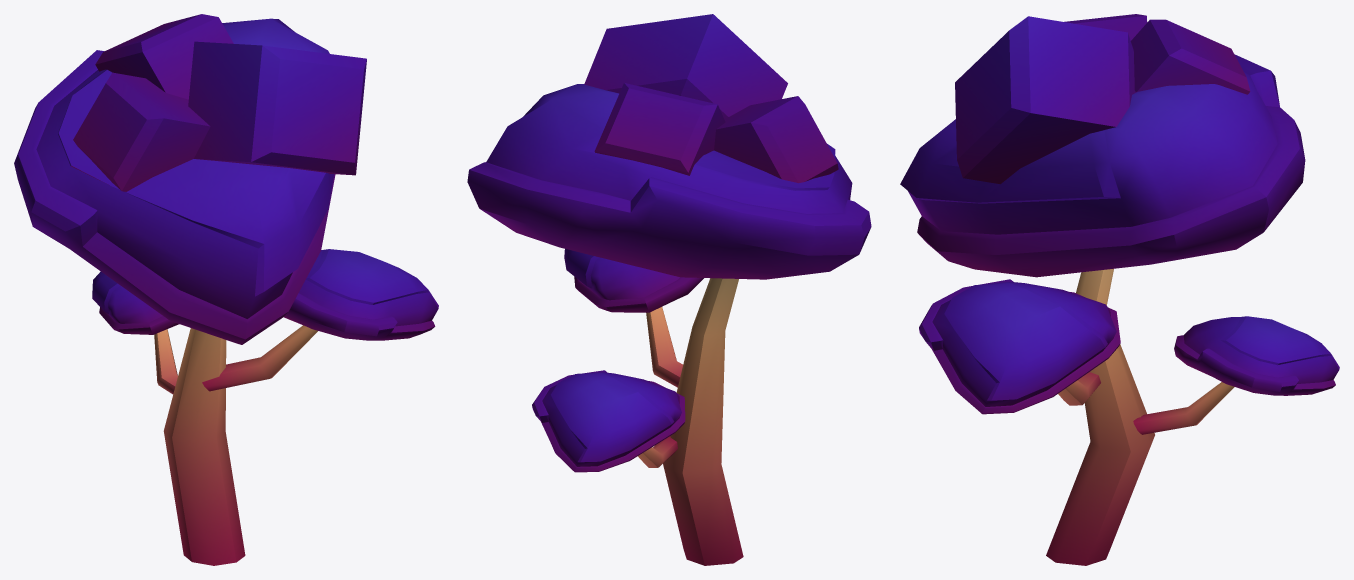
File: Edge_Tree_5.fbx
3 views of the same model, side by side, from view 1: azimuth 30°, elevation 25°; view 2: azimuth 150°, elevation 25°; view 3: azimuth 270°, elevation 25° (orthographic). The views are drawn at different scales.
Parts seen in each view (by area): view 1: Edge_Tree_v5; view 2: Edge_Tree_v5; view 3: Edge_Tree_v5.
Part boxes in pixels (left/top/right/bottom): Edge_Tree_v5: left=14, top=14, right=438, bottom=565; Edge_Tree_v5: left=467, top=14, right=871, bottom=565; Edge_Tree_v5: left=900, top=14, right=1339, bottom=565.
Bounding box in the file's own units: 360 × 509 × 370.
